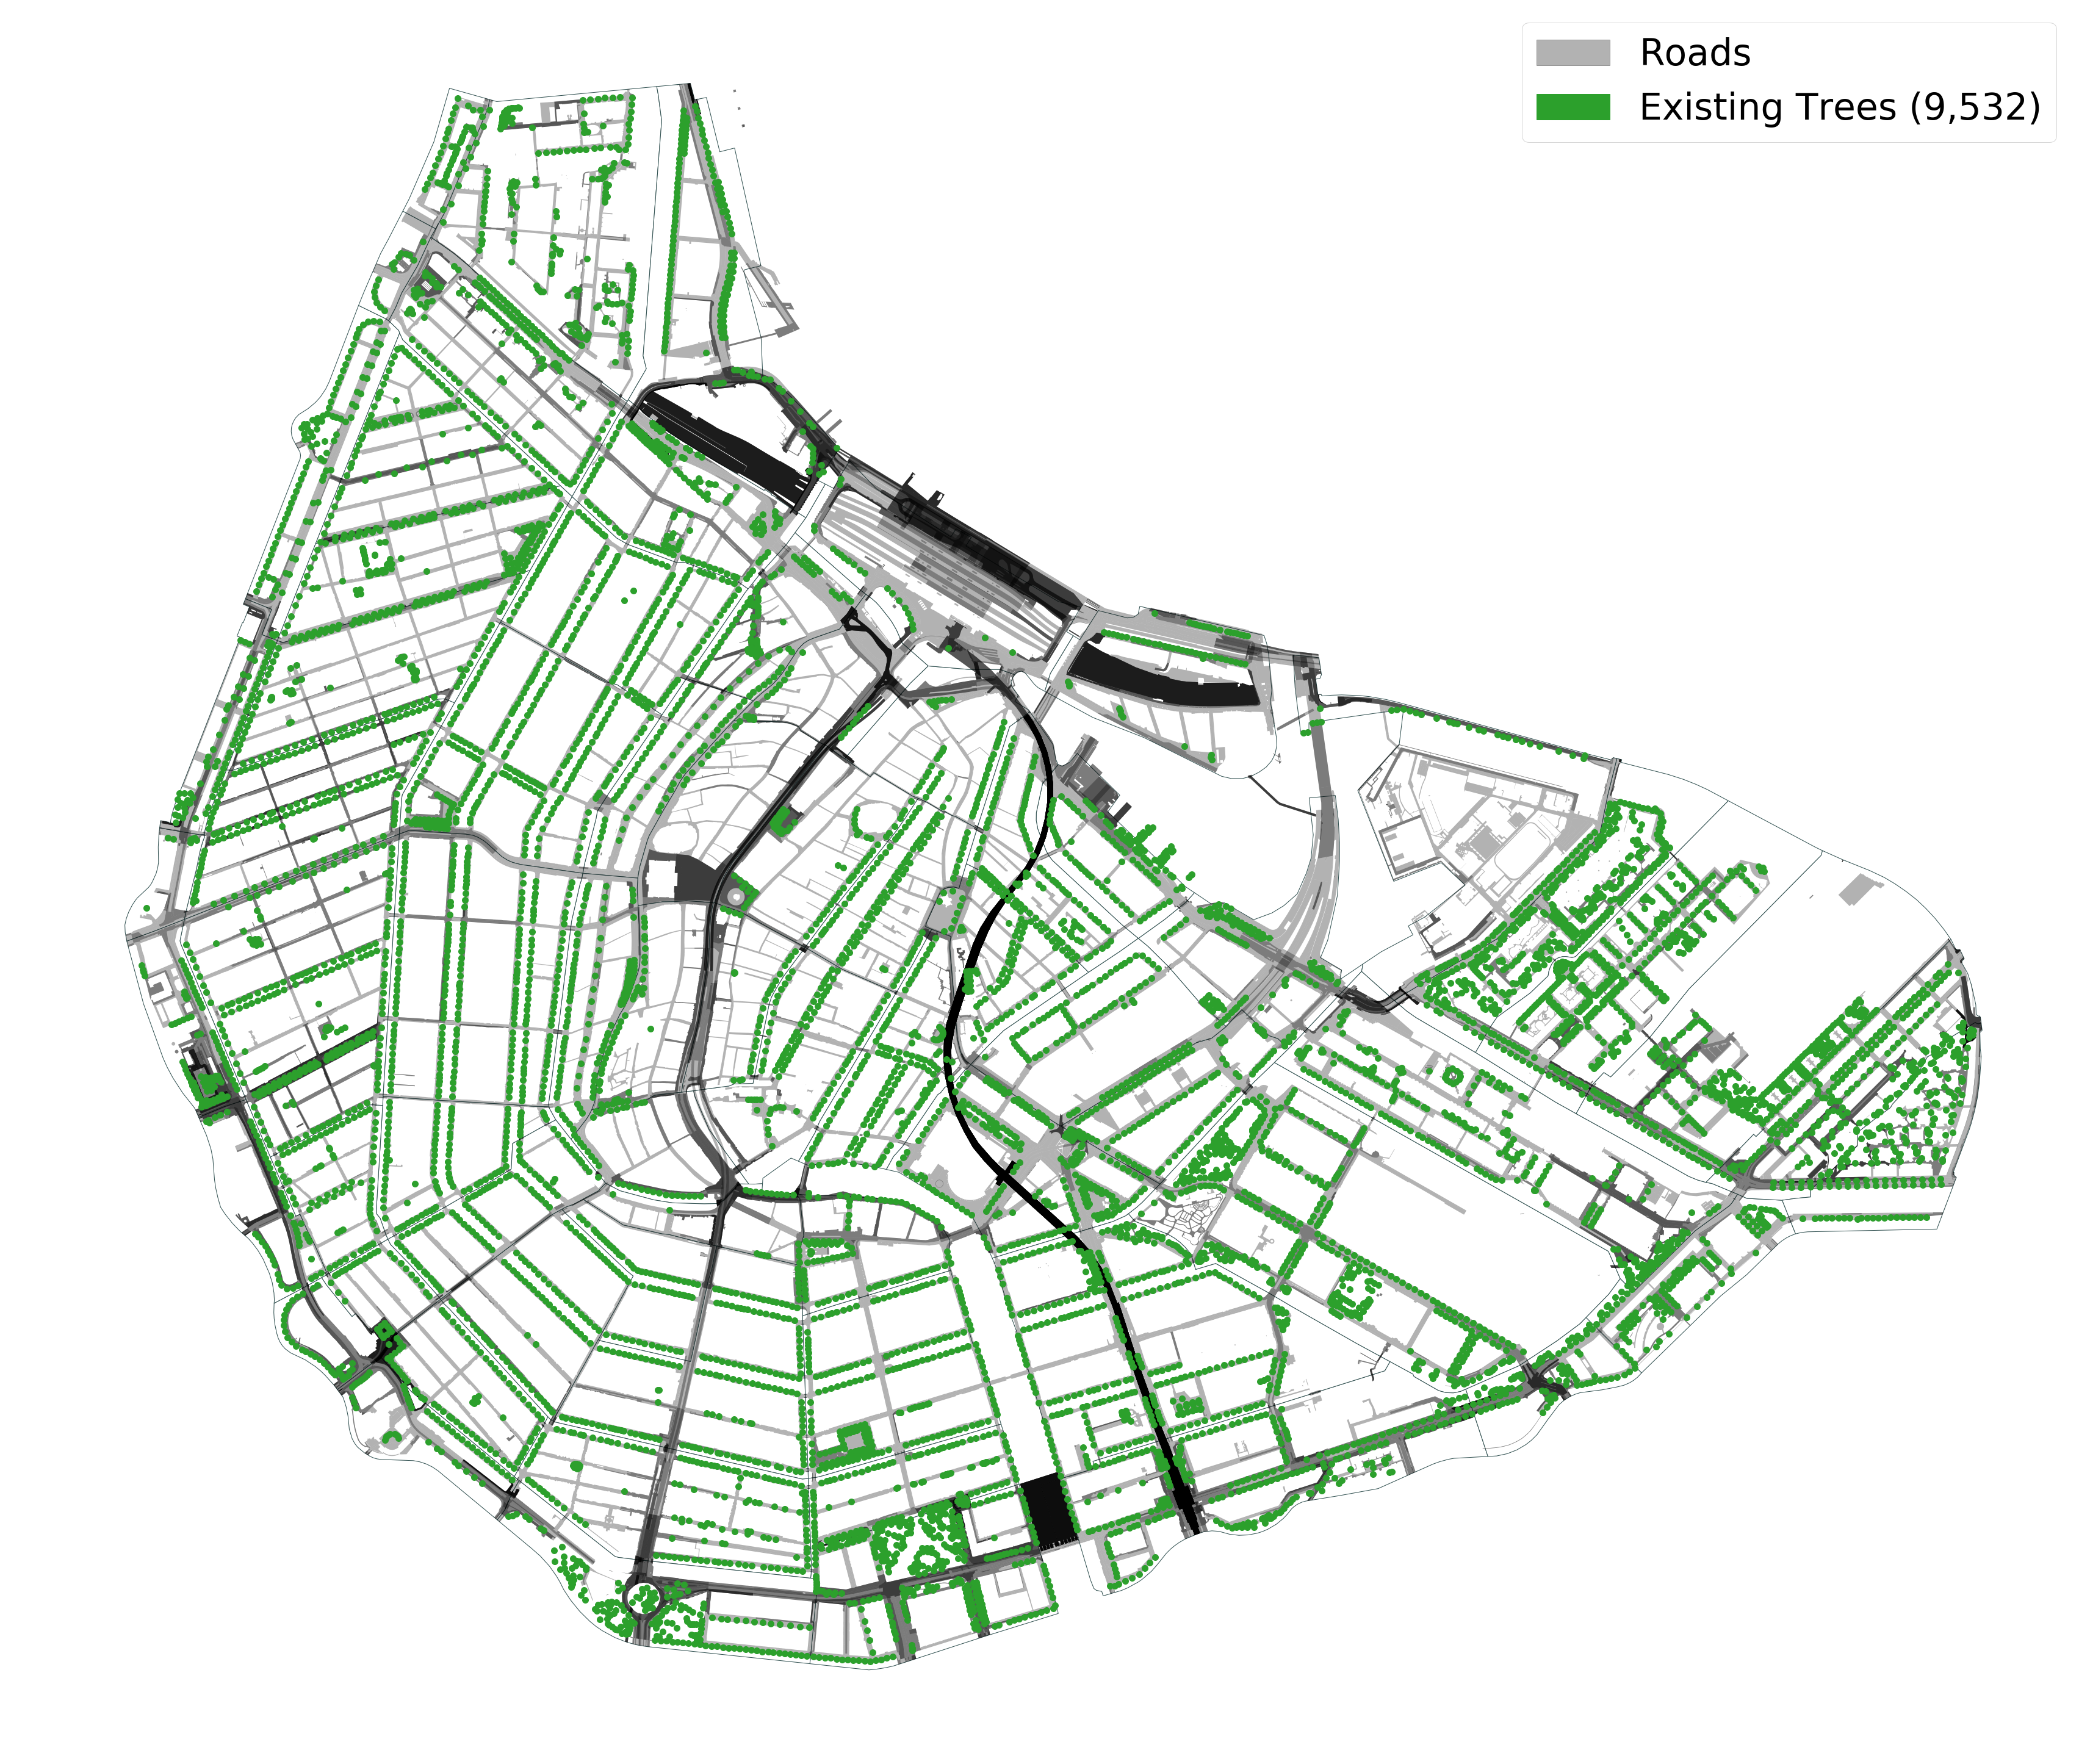

What the dashboard file says about the page in this screenshot:
{"tool":"tableau","page":{"name":"Dashboard 1","canvas":[1000,1000],"units":"permille","ordinal":0},"visuals":[{"type":"worksheet","title":"pt","mark":"Line","rows":["0"],"cols":["tiny_forest_area"],"box":[10,14.6,980,970.9]},{"type":"legend","title":"pt","param":"[federated.0cbgzb50fwx32t0zqqtpc04w2hoo].[none:Calculation_1052153505004306432:n","box":[810.5,71,139.7,306]}]}

Visuals, with their boxes on the dashboard's canvas, which has no fixed pixel size, in thousandths of its width and height (x1, y1, x2, y2). These are canvas units, not pixel positions in the 2079x1764 screenshot, which may show the page scaled, cropped or inside an application window:
"pt" worksheet (Line marks): box=[10, 15, 990, 986]
"pt" legend: box=[810, 71, 950, 377]
